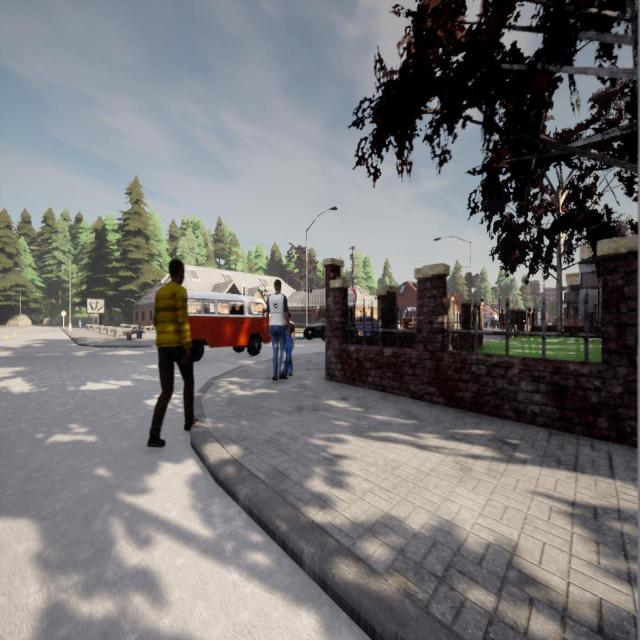Pedestrian: (147, 258, 195, 446), (266, 278, 289, 381), (282, 311, 295, 376), (498, 308, 507, 331), (525, 306, 532, 331), (511, 309, 516, 332), (77, 318, 83, 330)
Traffic_Signs: (348, 288, 357, 306), (61, 310, 67, 317)
Vehicle: (186, 293, 272, 362), (303, 318, 325, 342), (355, 316, 378, 336), (401, 306, 416, 331), (483, 315, 495, 328)
